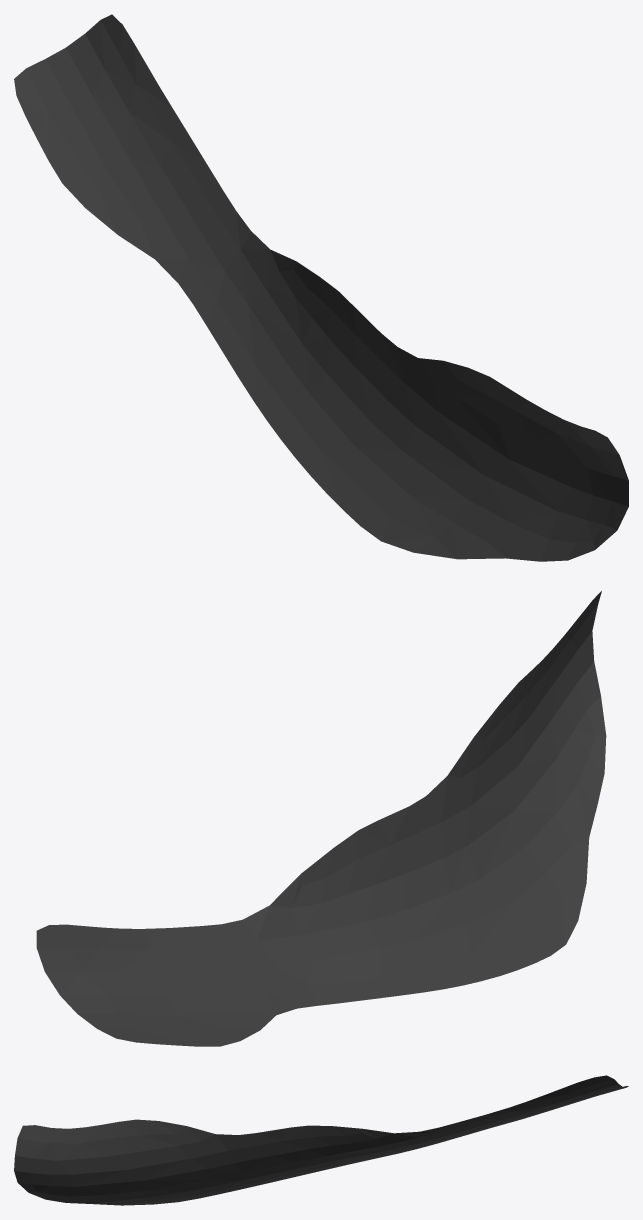
The model's file is Humerus_tricipital_line.glb.
3 views of the same model, one above another, from view 1: azimuth 30°, elevation 25°; view 2: azimuth 150°, elevation 25°; view 3: azimuth 270°, elevation 25° (orthographic). The views are drawn at different scales.
Parts seen in each view (by area): view 1: Humerus_tricipital_line; view 2: Humerus_tricipital_line; view 3: Humerus_tricipital_line.
Part boxes in pixels (left/top/right/bottom): Humerus_tricipital_line: left=14, top=14, right=628, bottom=561; Humerus_tricipital_line: left=36, top=591, right=606, bottom=1046; Humerus_tricipital_line: left=14, top=1075, right=628, bottom=1205.
Bounding box in the file's own units: 0.076 × 0.1389 × 0.5112.
1 material, 1 textured.
